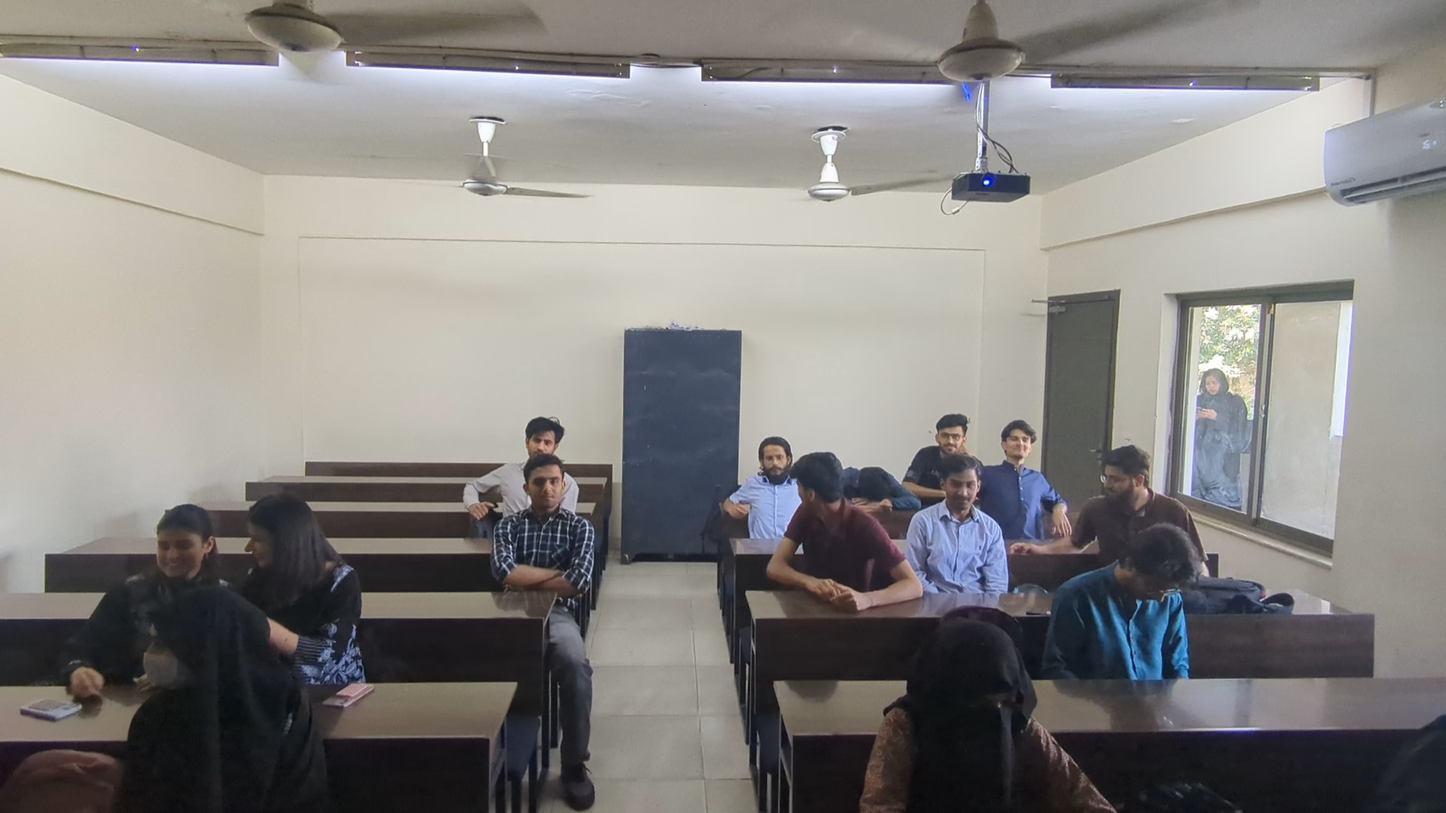look_forward: (488, 454, 596, 604), (906, 455, 1009, 596), (988, 418, 1068, 548), (718, 431, 797, 540), (909, 403, 974, 461), (513, 413, 565, 460)
sleep: (845, 453, 921, 520)
turn_head: (96, 590, 343, 810), (238, 495, 380, 682), (764, 448, 924, 609), (130, 499, 225, 601), (1082, 446, 1194, 531)
using_device: (853, 616, 1115, 813), (1040, 520, 1196, 679)
